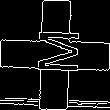M_W: (29, 31, 81, 79)
